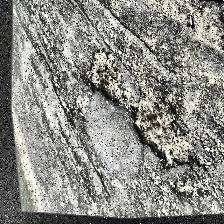pothole: (121, 89, 203, 179), (78, 46, 134, 114)
